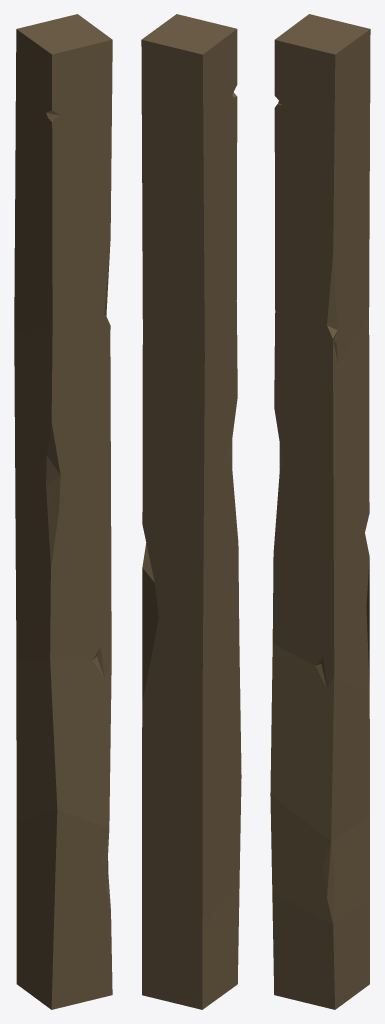
The model's file is greek_beam.fbx.
The picture shows the model from 3 angles, left to right: view 1: azimuth 30°, elevation 25°; view 2: azimuth 150°, elevation 25°; view 3: azimuth 330°, elevation 25°; orthographic projection.
Visible parts, largest first — view 1: Cube.067; view 2: Cube.067; view 3: Cube.067.
Part boxes in pixels (x1=…): Cube.067: x1=14, y1=14, x2=112, y2=1009; Cube.067: x1=141, y1=14, x2=241, y2=1009; Cube.067: x1=270, y1=14, x2=370, y2=1009.
Bounding box in the file's own units: 20.84 × 300 × 22.68.
